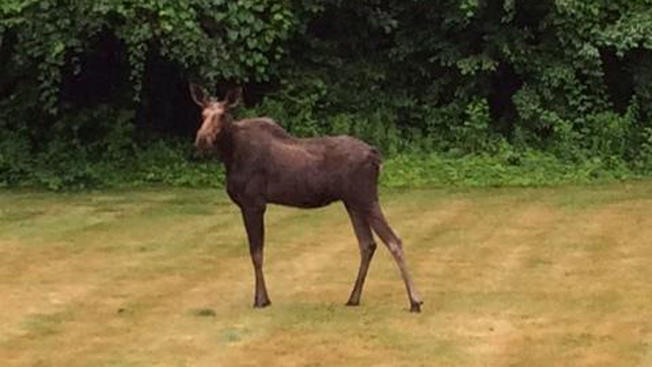moose: (181, 72, 426, 317)
